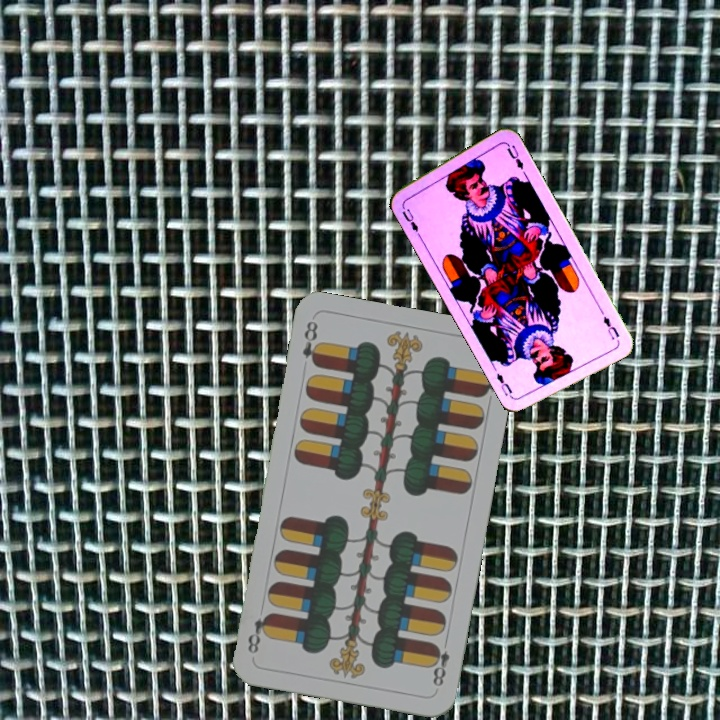E8: (426, 634, 452, 690), (298, 316, 324, 369)
EU: (397, 201, 423, 239), (599, 312, 622, 343)
